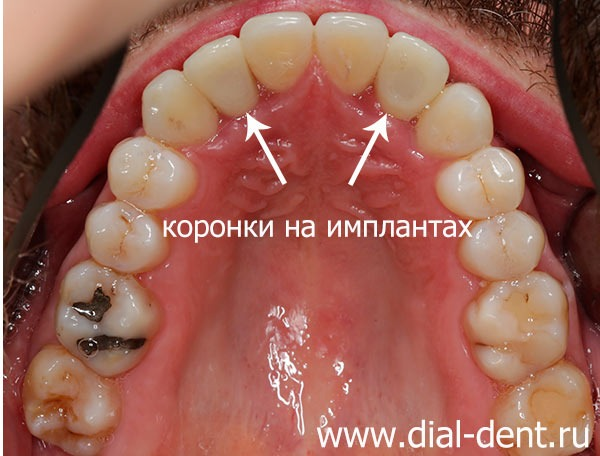UL1BC_decay: (439, 147, 524, 218)
UL1M_decay: (465, 273, 566, 382)
UL2BC_healthy: (474, 212, 543, 278)
UL2M_decay: (503, 365, 593, 423)
ULCI_decay: (315, 13, 388, 93)
ULC_healthy: (418, 82, 493, 156)
ULLI_healthy: (378, 32, 449, 113)
UR1BC_healthy: (108, 137, 191, 208)
UR1M_decay: (57, 262, 156, 376)
UR2BC_decay: (87, 202, 155, 271)
UR2M_decay: (25, 346, 117, 456)
URCI_healthy: (242, 12, 314, 90)
URC_decay: (142, 69, 216, 143)
URLI_healthy: (183, 35, 259, 112)
